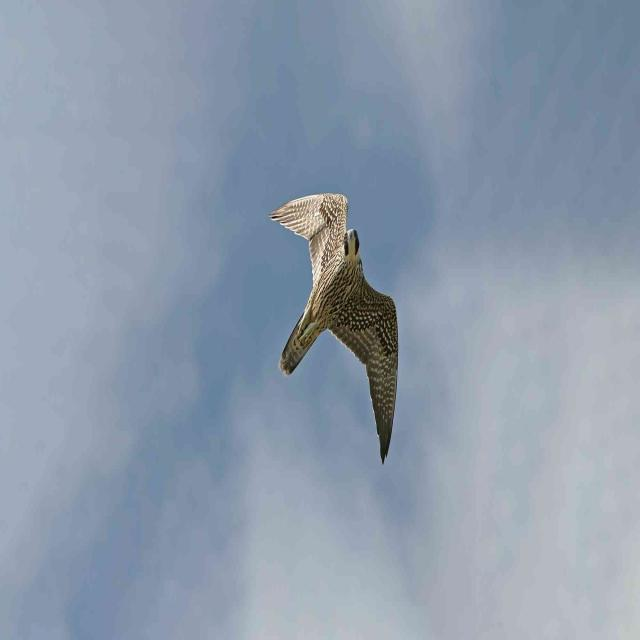birds: (259, 181, 406, 468)
